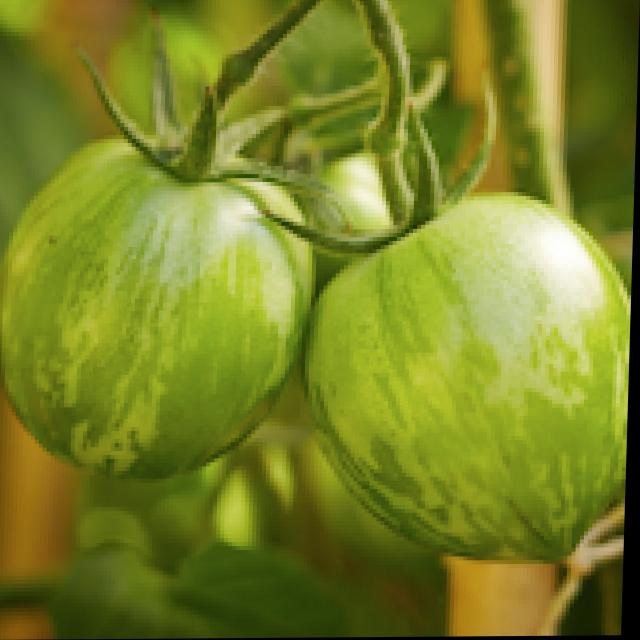yesil: (0, 16, 640, 605)
